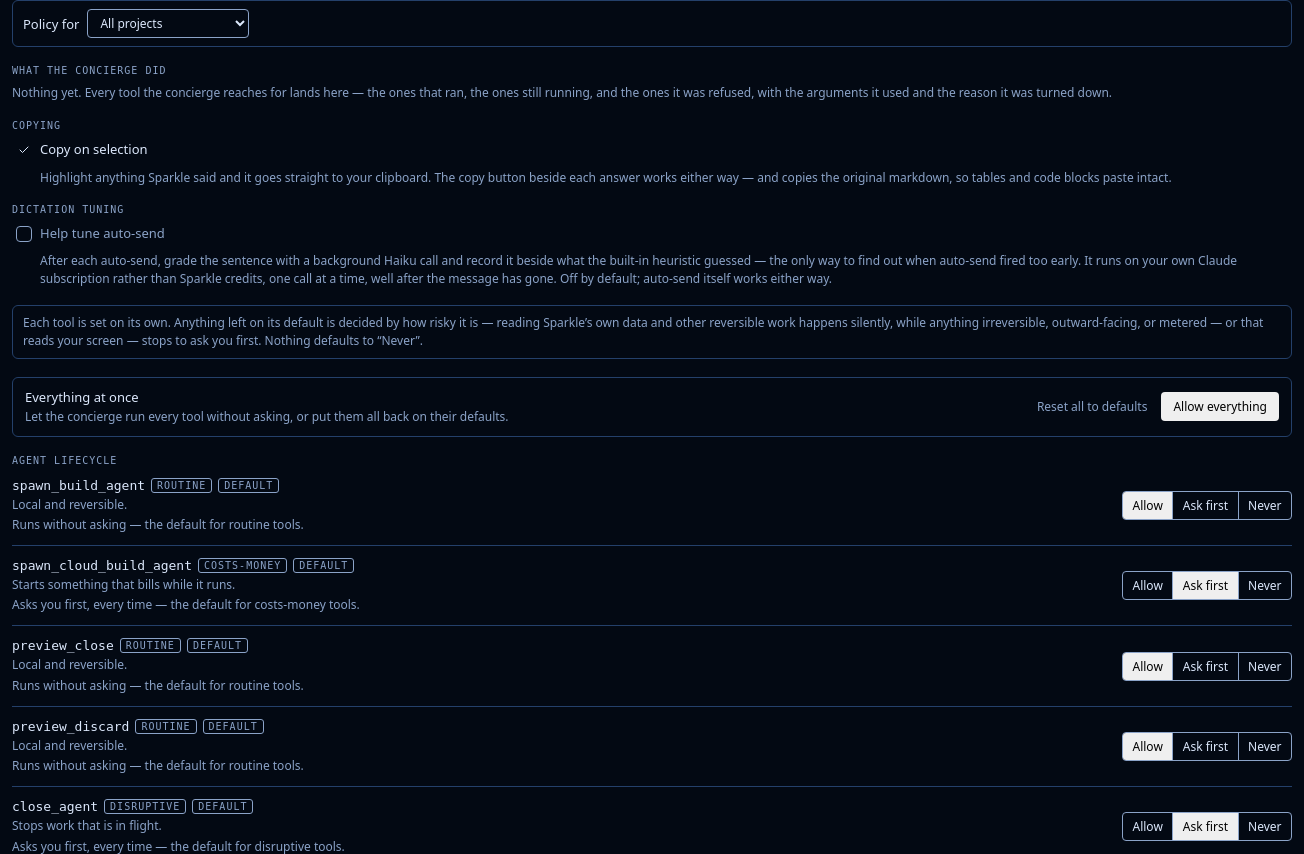
switching scope changes which tier is shown — in BOTH directions › shows the global tier globally and the repo's tier for the repo, and restores it on the way back
Select "Another repo…" in the dropdown with test id "concierge-policy-scope" at x=168, y=24, box [87,9,249,38]
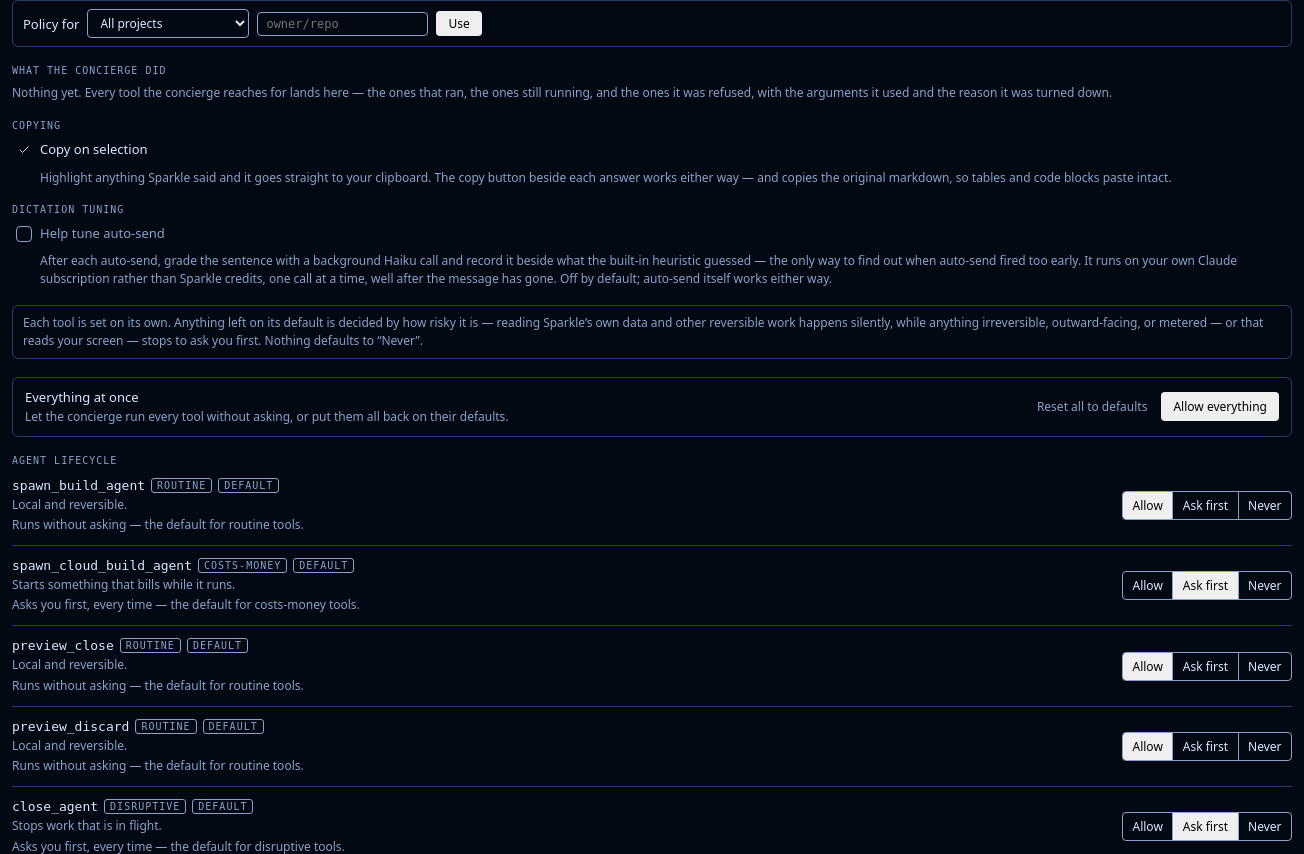
Type "drodio/sparkle" into the field with test id "concierge-policy-scope-input".
click(343, 24); type("drodio/sparkle")  # box [257,12,428,36]
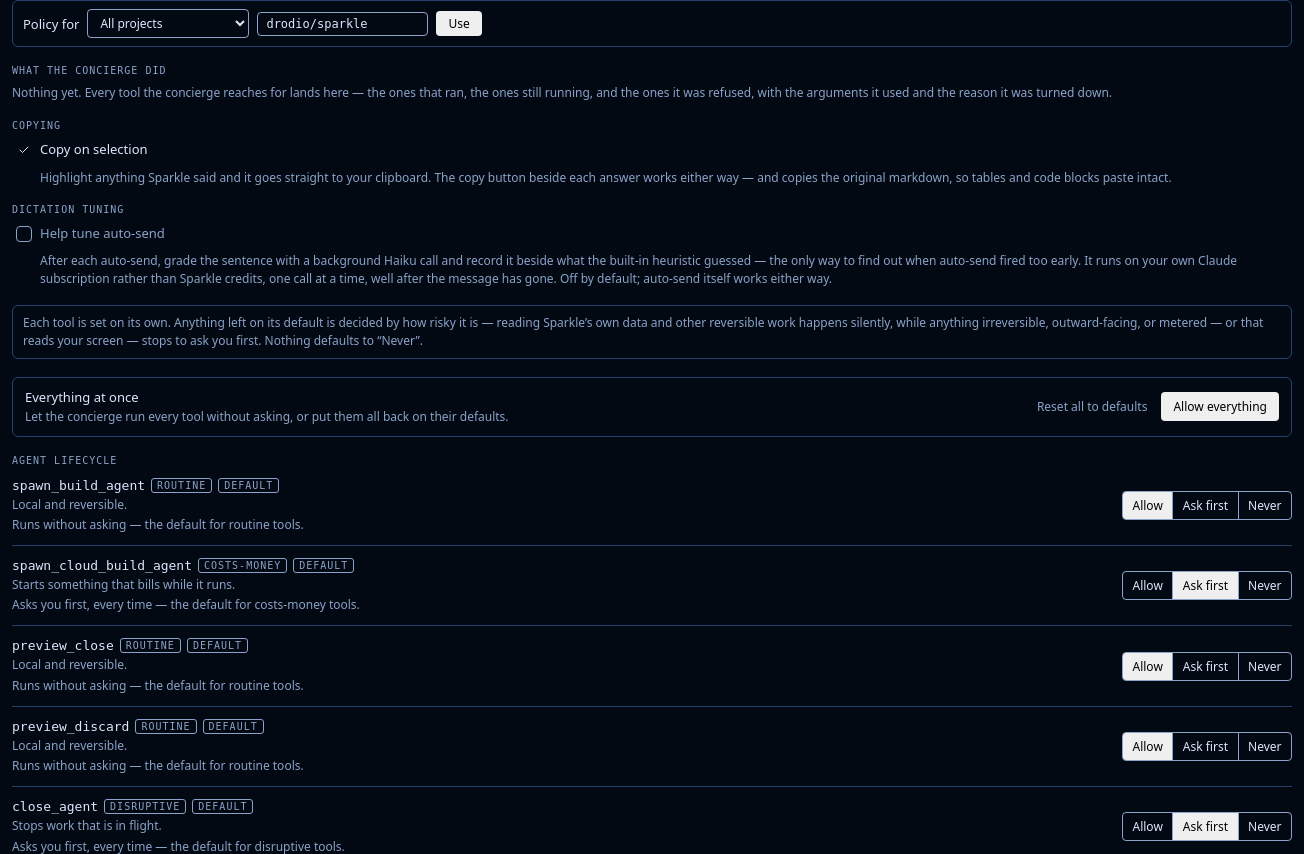
Click the button "Use".
click(459, 24)  # box [436,11,482,36]
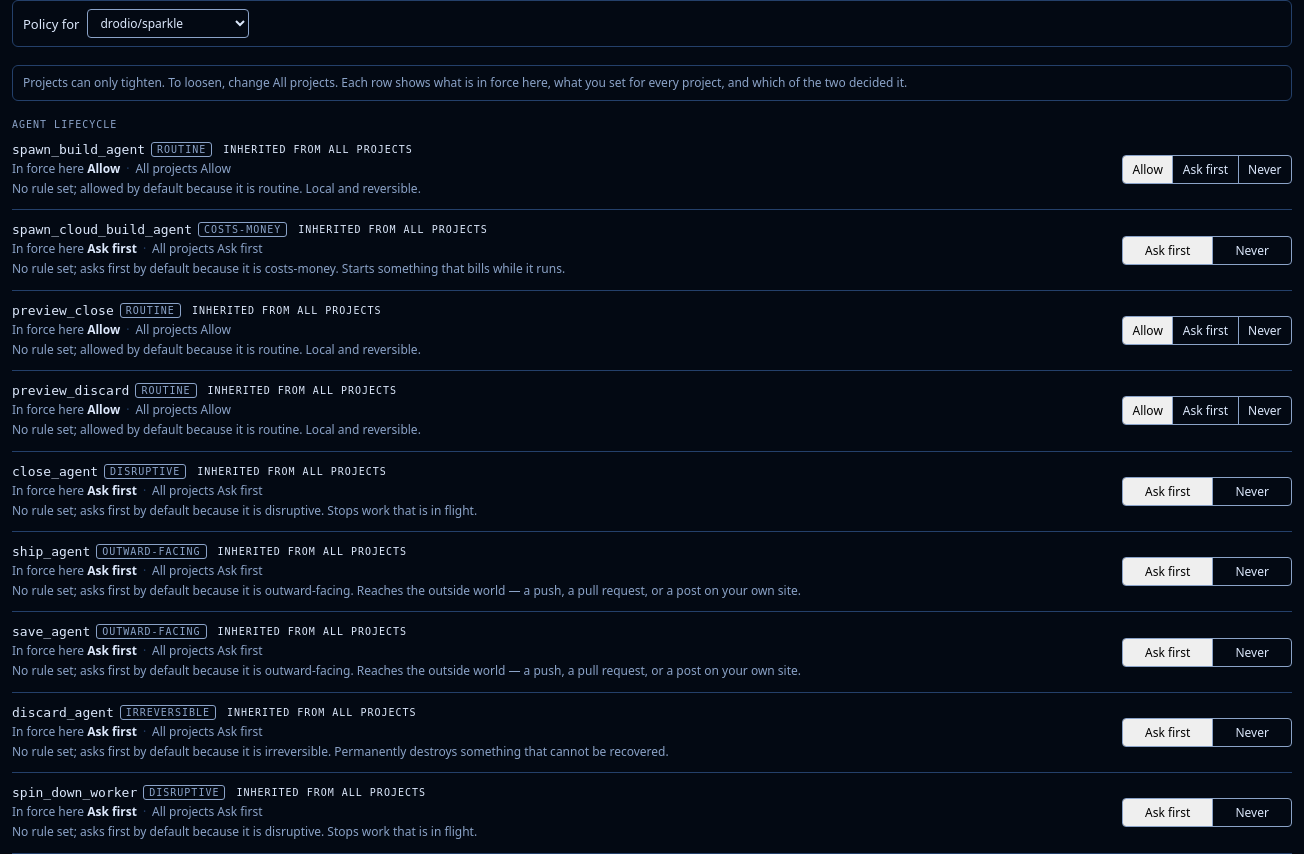
Select "plow-pbc/tkmx-client" in the dropdown with test id "concierge-policy-scope" at x=168, y=24, box [87,9,249,38]
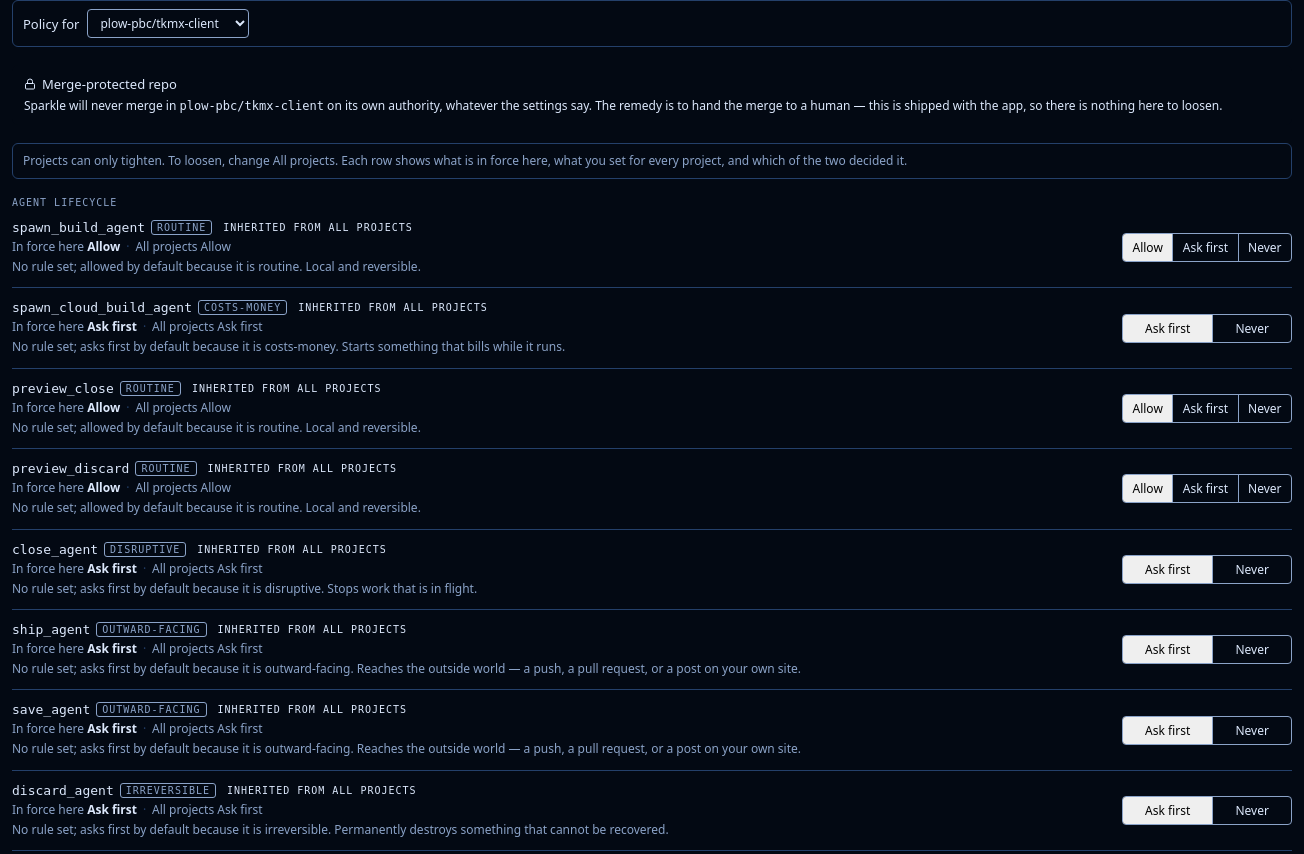
Select "All projects" in the dropdown with test id "concierge-policy-scope" at x=168, y=24, box [87,9,249,38]
(page scrolled)
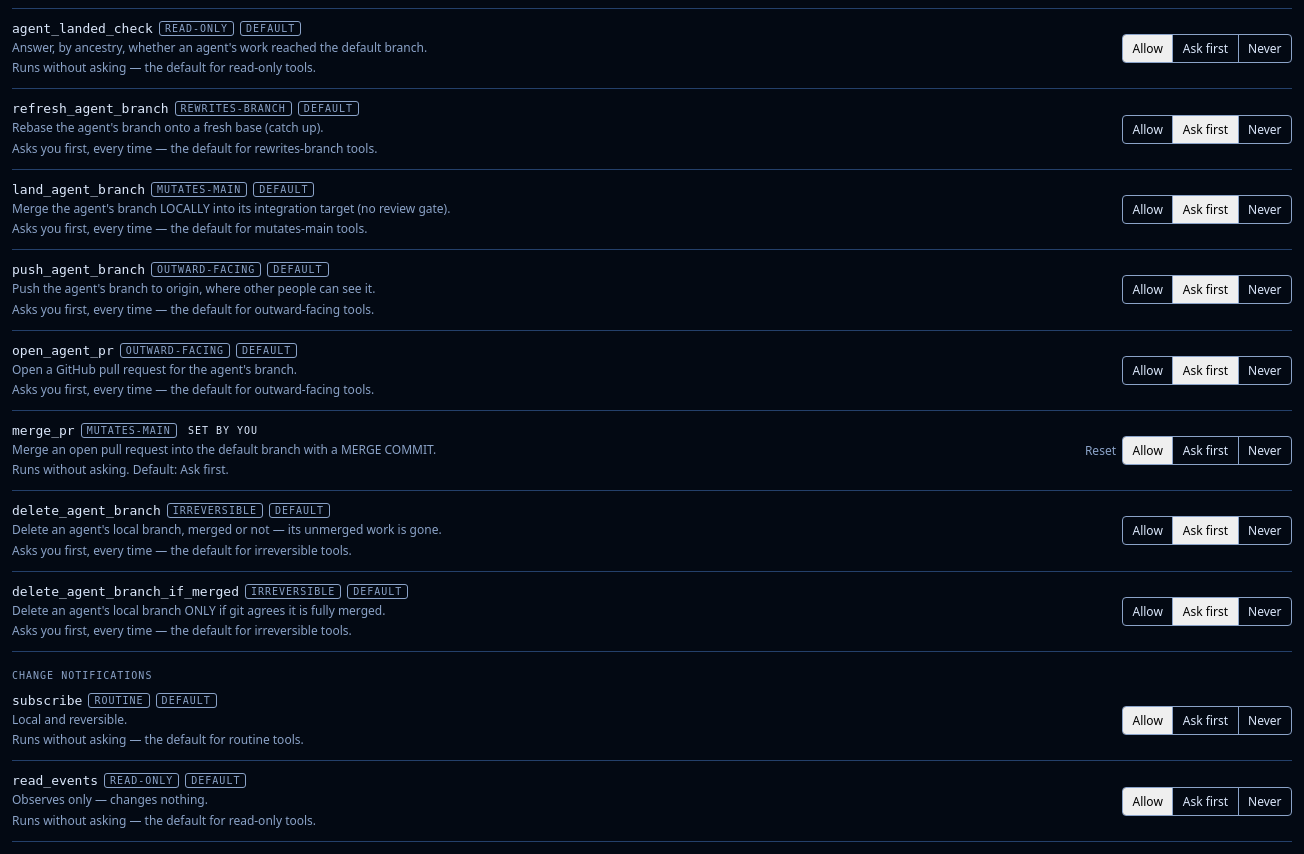
expect no elements with test id "concierge-project-tool-row" are shown: met
